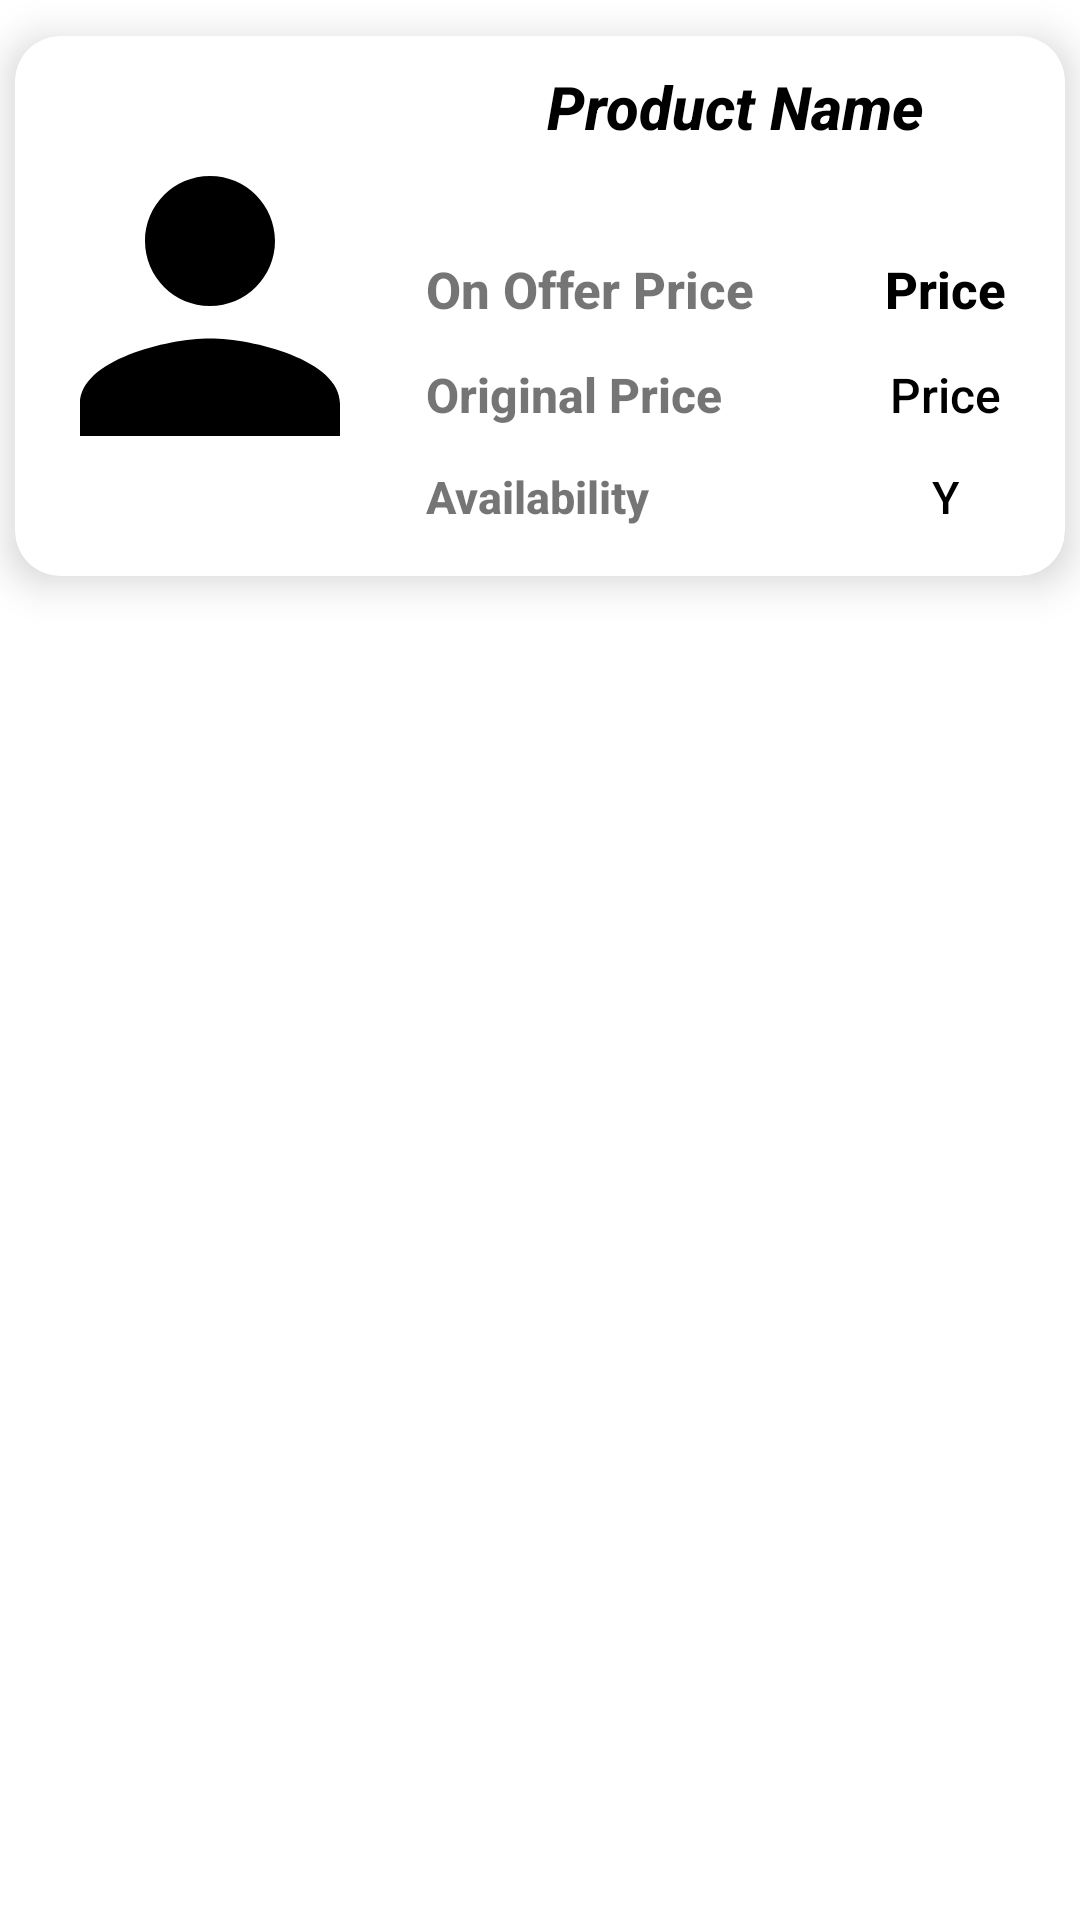

Where to tap for icons on this 1080px×1920px app screen, as [x,y]:
person: [210,306]
